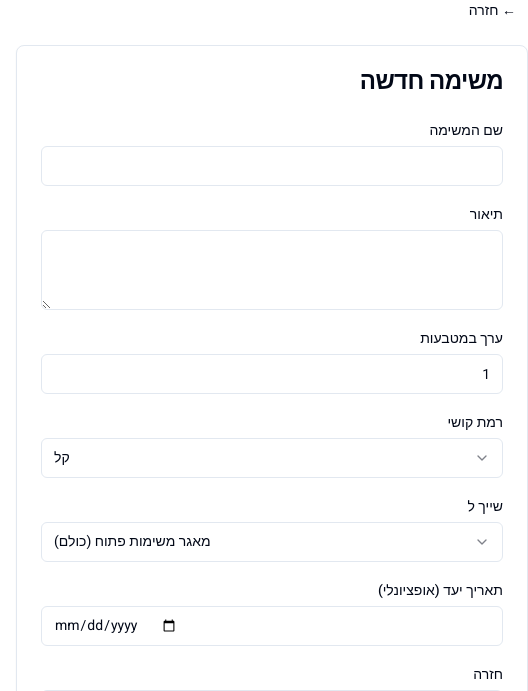
ChoreFormPage — create mode › disables submit button while saving
The width and height of the screenshot is (528, 691).
In the field labelled "שם המשימה": (272, 166) [41,146,503,186], type "כלי מטבח"
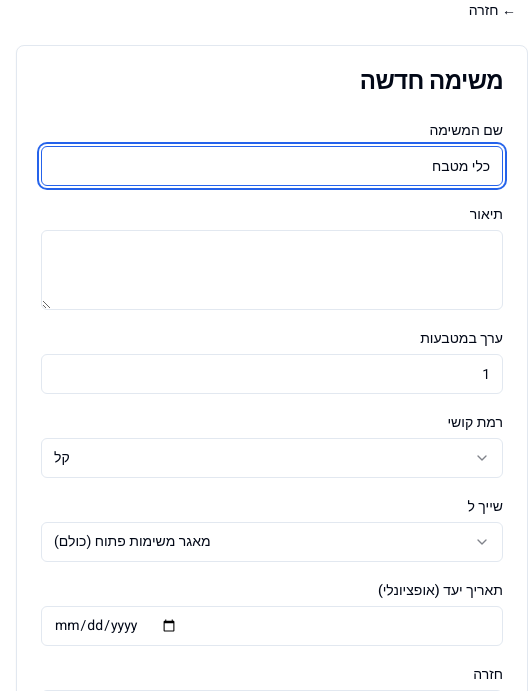
Replace the text in the number field labelled "ערך במטבעות" with "10": (272, 374) [41,354,503,394]
(page scrolled)
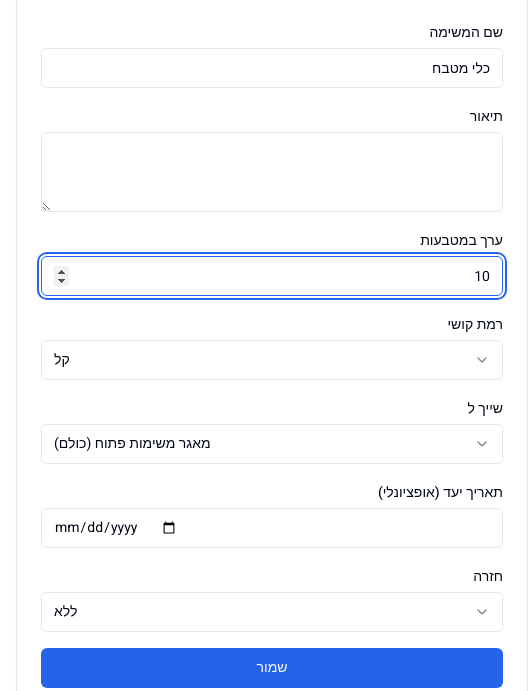
Click the button "שמור": (272, 668) [41,648,503,688]
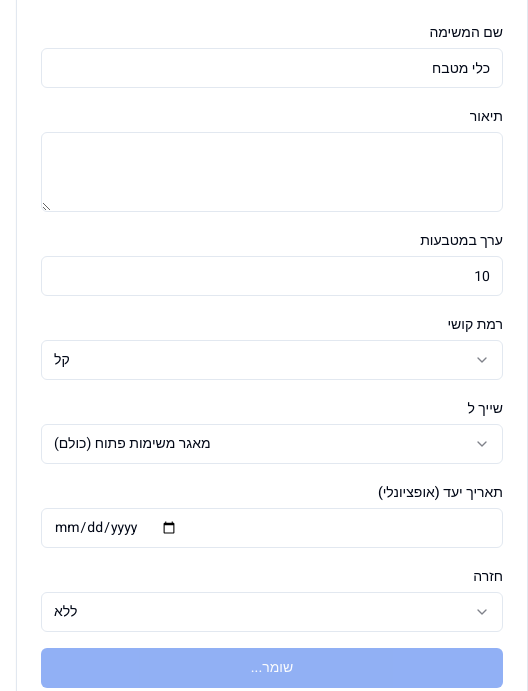
expect the button "שומר..." is disabled: met, box [41,648,503,688]
